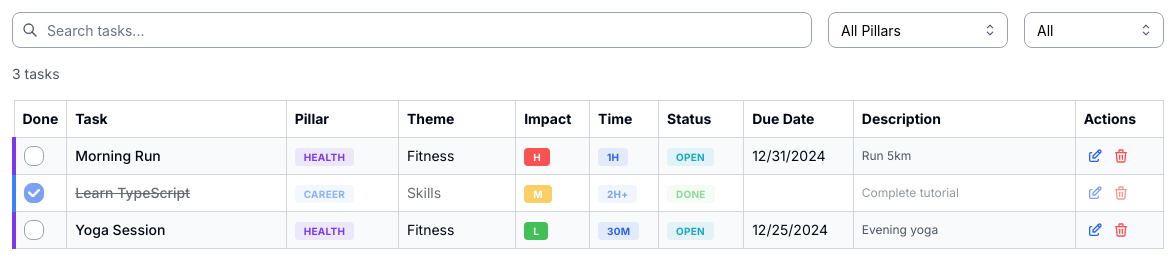
AllTasksGrid › Empty States › shows message when no tasks match filters
The width and height of the screenshot is (1176, 266).
Type "nonexistent task" into the field with placeholder "Search tasks..." at (412, 30), box [12,12,812,48]
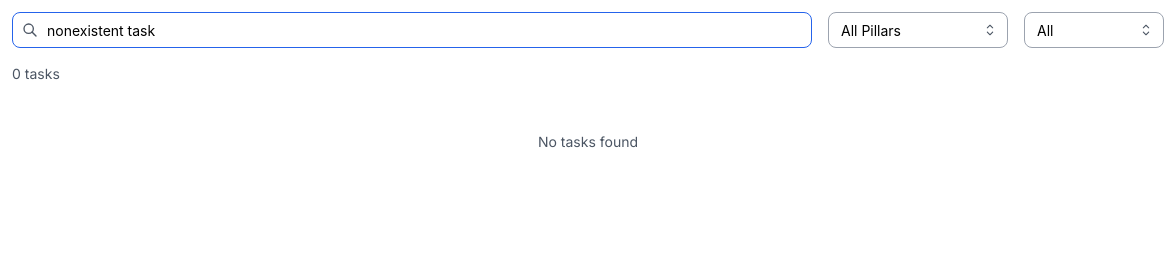
Check: the text "No tasks found" is shown, box [538,133,638,150]
